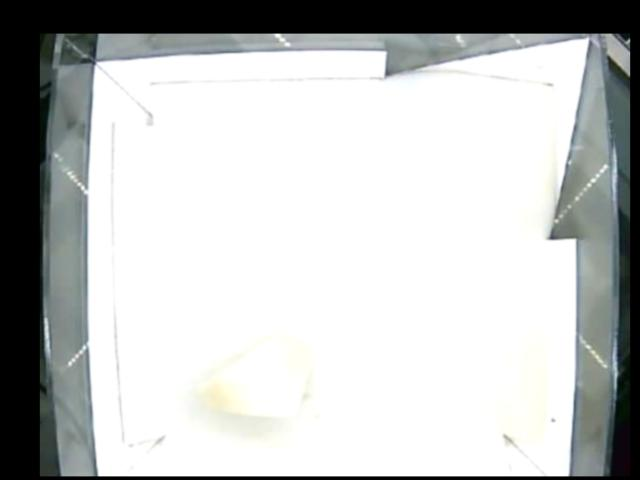Mooli: (198, 331, 313, 417)
